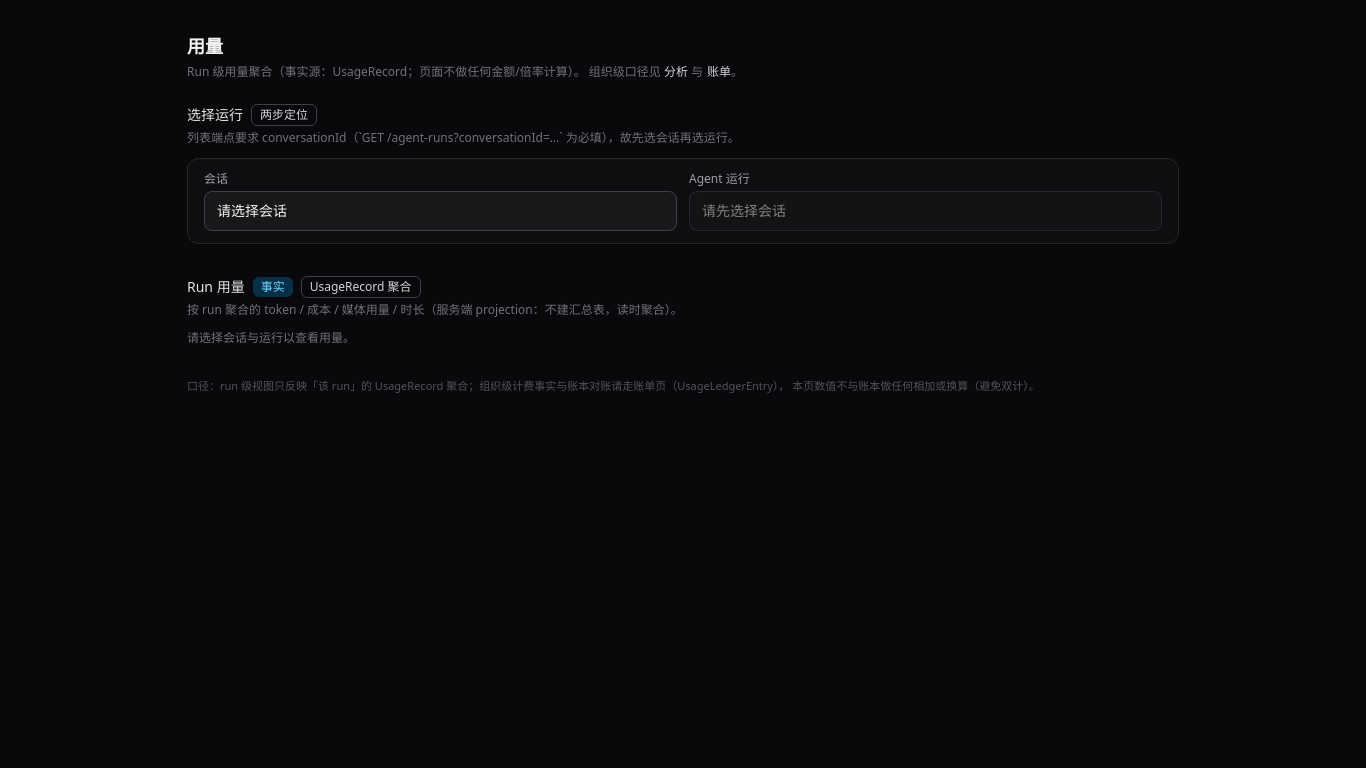
Test: Usage 页面 · 两步定位（会话 → 运行） › 选中会话后自动落到该会话第一个 run 并取回用量（conversationId 必填参数如实拼装）
The width and height of the screenshot is (1366, 768).
Expected: the heading "用量" is shown, left=187, top=34, right=223, bottom=58
Select "生图实验 · 2026-09-29 11:20" in the dropdown labelled "会话": (440, 211) left=204, top=191, right=677, bottom=231
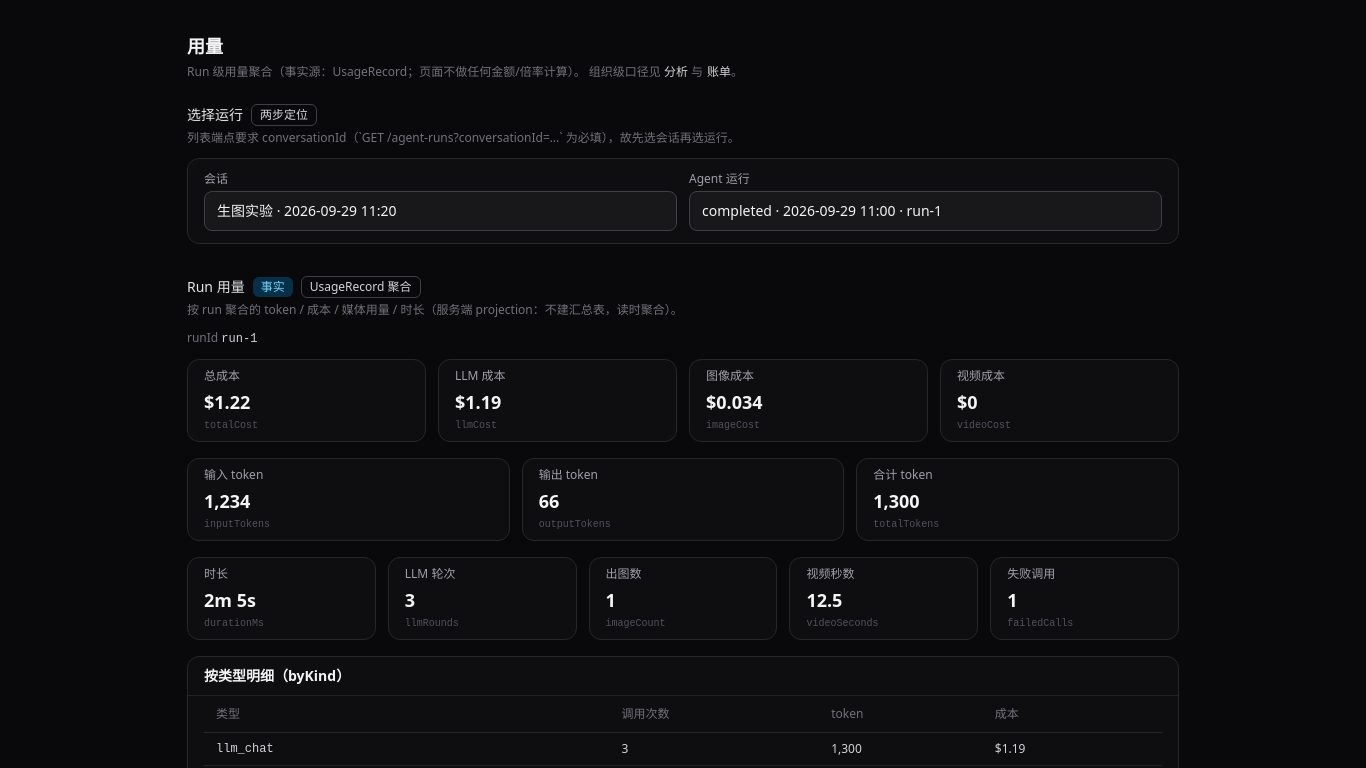
Result: the dropdown labelled "Agent 运行" is enabled at left=689, top=191, right=1162, bottom=231
Result: the dropdown labelled "Agent 运行" shows "completed · 2026-09-29 11:00 · run-1" at left=689, top=191, right=1162, bottom=231
Result: the text "run-1" is shown at left=221, top=332, right=257, bottom=346
